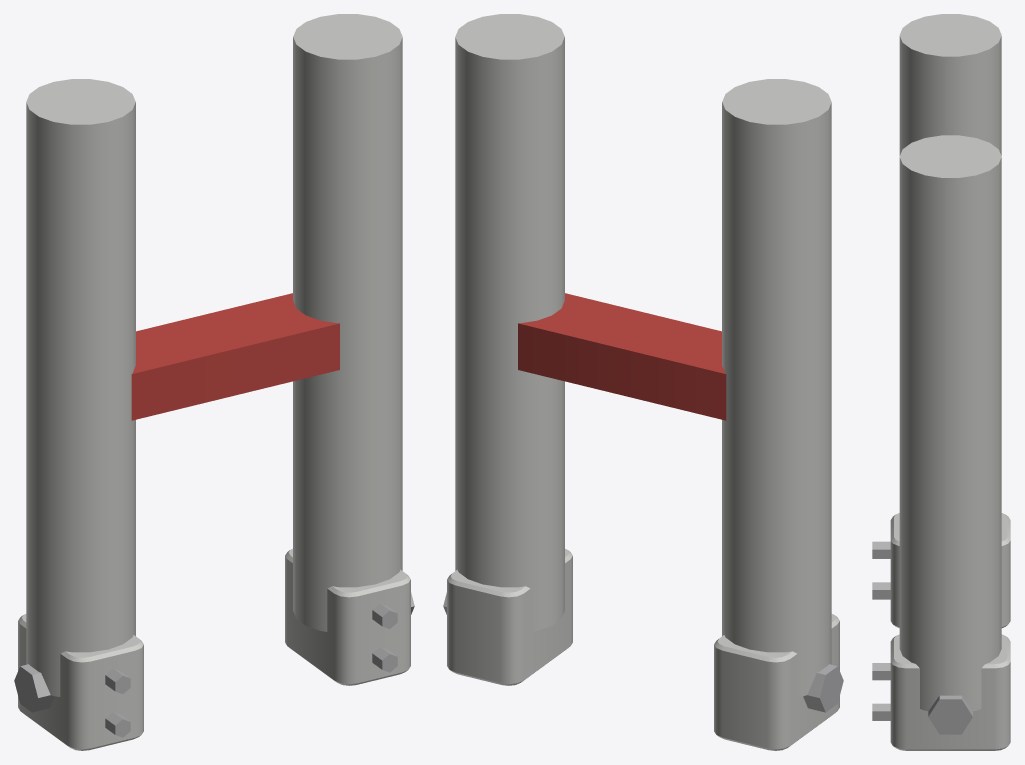
Rendered from cafe_brace_fork_lower.glb.
3 renders of one model, left to right at view 1: azimuth 30°, elevation 25°; view 2: azimuth 150°, elevation 25°; view 3: azimuth 270°, elevation 25°, orthographic. The views are drawn at different scales.
Visible parts, largest first — view 1: lod0; view 2: lod0; view 3: lod0.
Boxes of the visible parts, <box> form: lod0: <box>14,14,414,750</box>; lod0: <box>443,14,843,750</box>; lod0: <box>872,14,1010,750</box>.
Size of what is drawn, in the model's own units: 0.254 by 0.4 by 0.0865.
